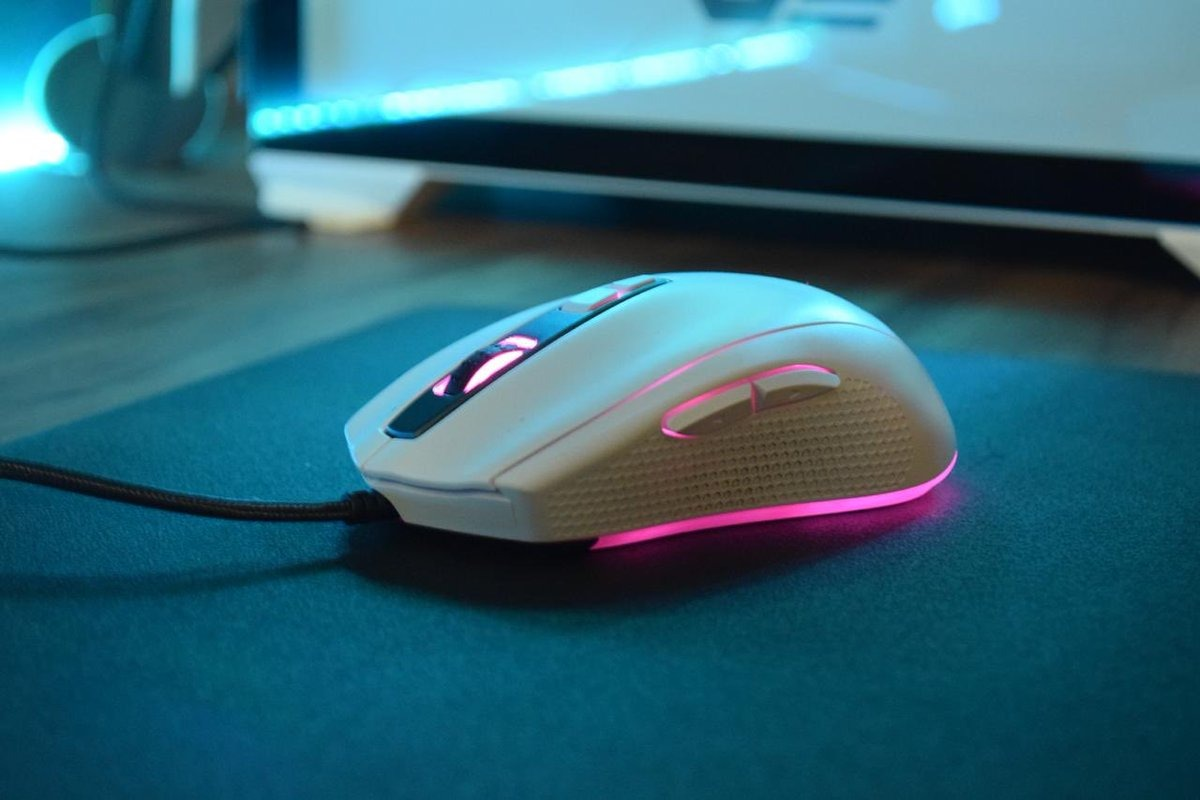mouse: (327, 259, 970, 601)
